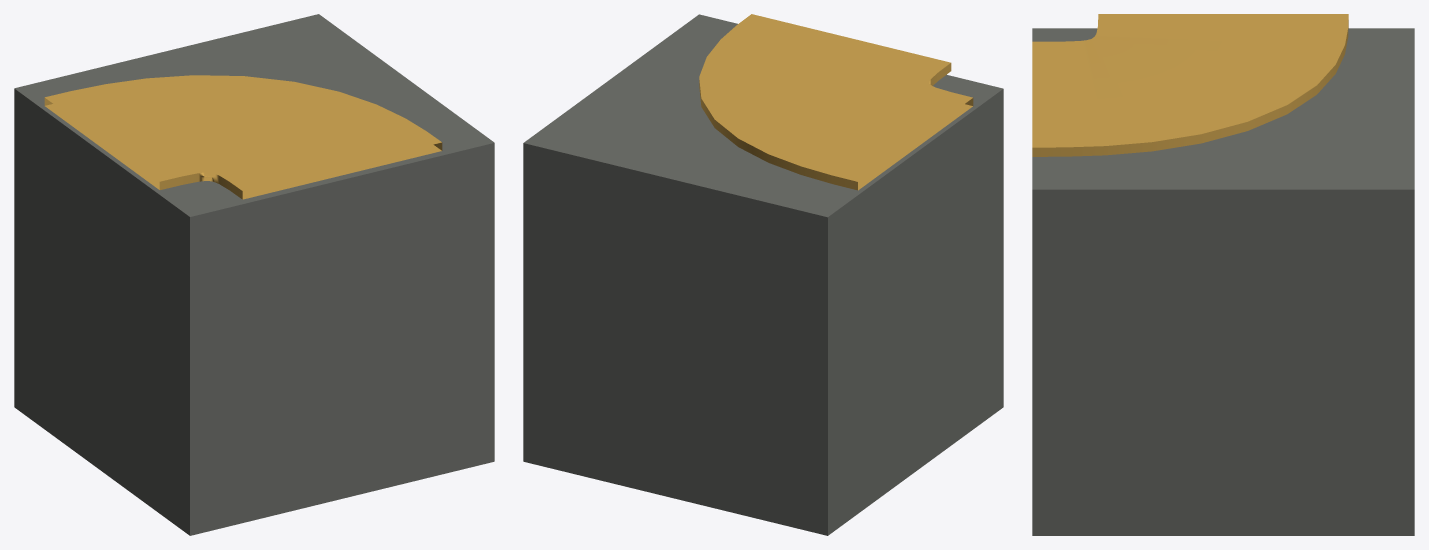
File: masu_road_turn.fbx
3 views of the same model, side by side, from view 1: azimuth 30°, elevation 25°; view 2: azimuth 150°, elevation 25°; view 3: azimuth 270°, elevation 25° (orthographic). The views are drawn at different scales.
Visible parts, largest first — view 1: floor_masuRoad3, polySurface40; view 2: floor_masuRoad3, polySurface40; view 3: floor_masuRoad3, polySurface40.
Part boxes in pixels (left/top/right/bottom): floor_masuRoad3: left=14, top=14, right=494, bottom=535; polySurface40: left=44, top=75, right=442, bottom=199; floor_masuRoad3: left=523, top=14, right=1003, bottom=535; polySurface40: left=699, top=14, right=973, bottom=190; floor_masuRoad3: left=1032, top=28, right=1414, bottom=535; polySurface40: left=1032, top=14, right=1348, bottom=156.
Bounding box in the file's own units: 5 × 5.21 × 5.
